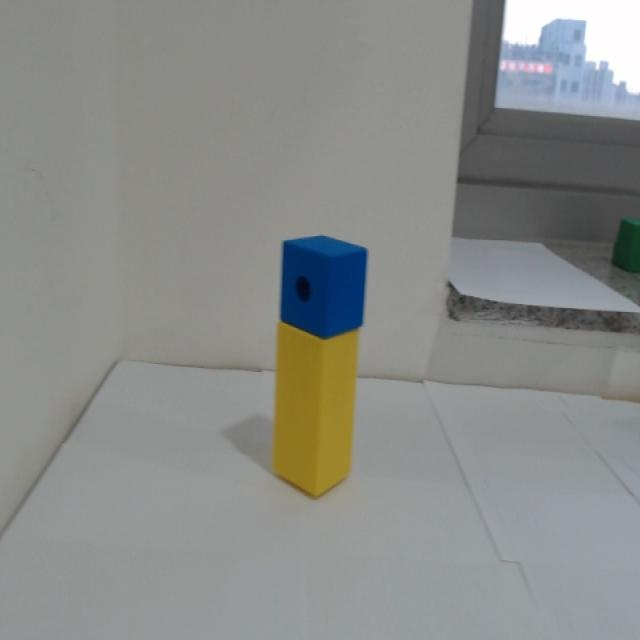cube: (278, 234, 369, 339)
